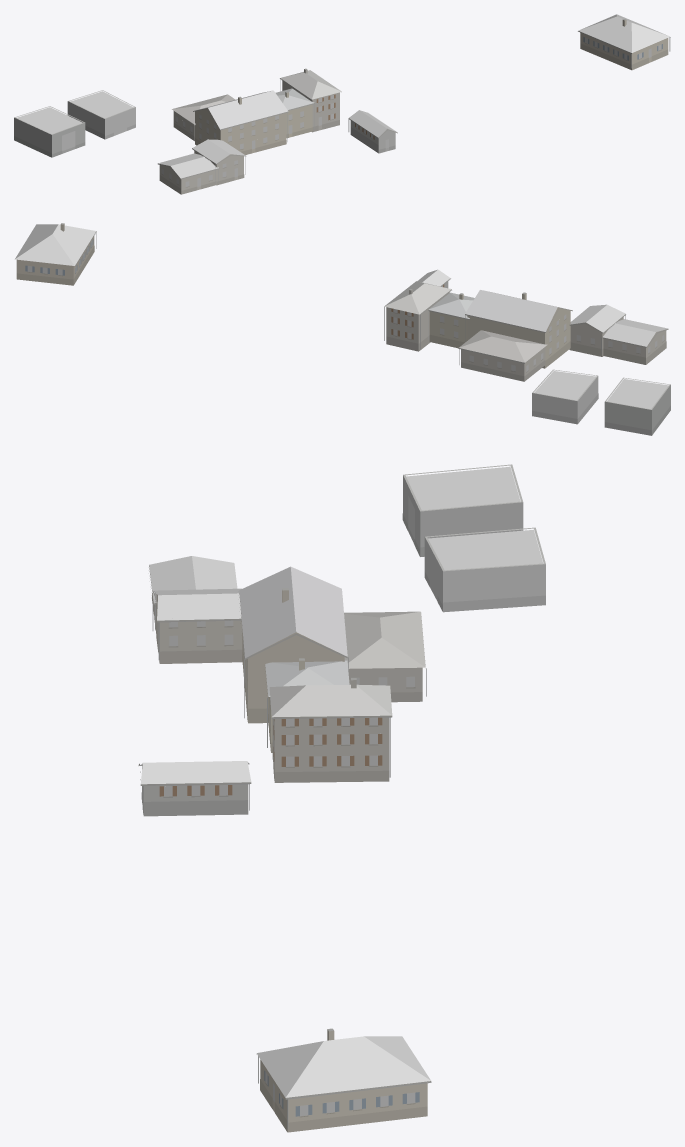
The picture shows the model from 3 angles, top to bottom: view 1: azimuth 30°, elevation 25°; view 2: azimuth 150°, elevation 25°; view 3: azimuth 270°, elevation 25°; orthographic projection. The views are drawn at different scales.
Visible parts, largest first — view 1: bld; view 2: bld; view 3: bld.
Boxes of the visible parts, x1,y1,x2,y2 form: bld: [14, 14, 670, 194]; bld: [15, 223, 670, 435]; bld: [138, 464, 545, 1132].
Bounding box in the file's own units: 160 × 15.84 × 46.98.
